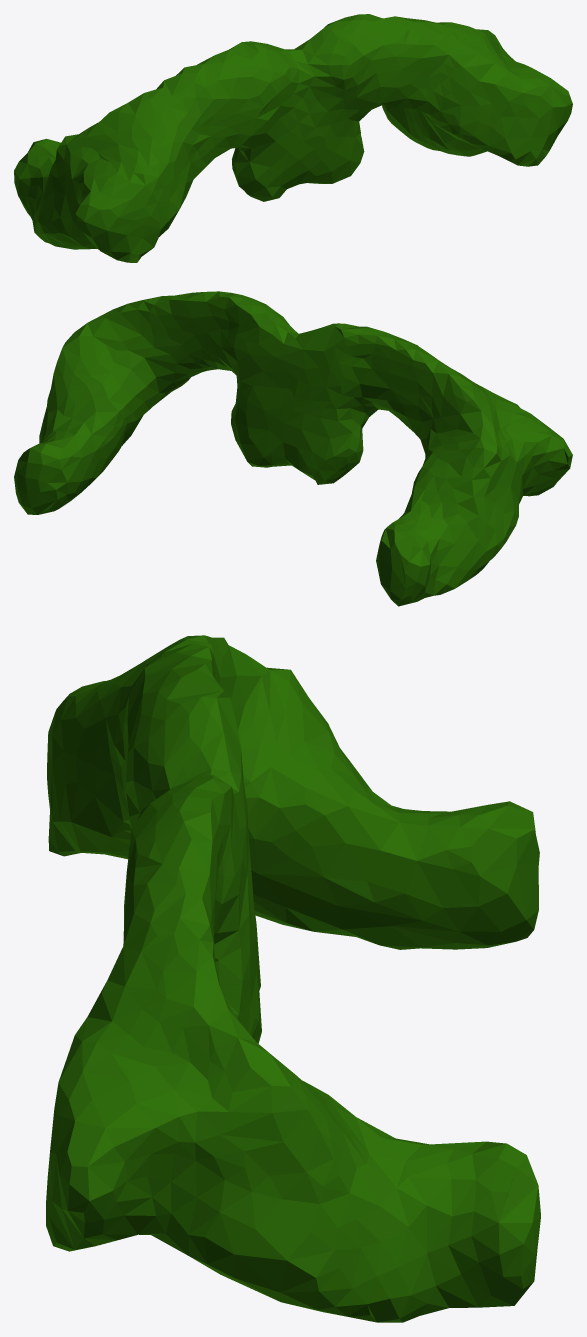
Rendered from 155-8B-area 8B of cortex-('0.1882', '0.4980', '0.0000').obj.
3 views of the same model, one above another, from view 1: azimuth 30°, elevation 25°; view 2: azimuth 150°, elevation 25°; view 3: azimuth 270°, elevation 25° (orthographic). The views are drawn at different scales.
Bounding box in the file's own units: 159 × 60.26 × 68.99.
